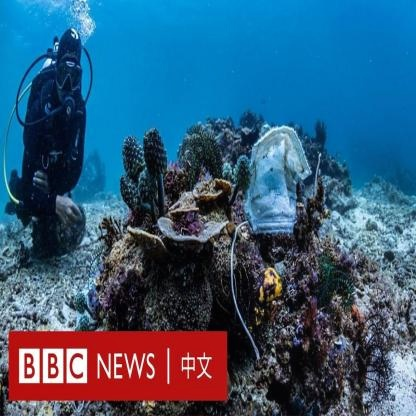Mask: (245, 121, 310, 244)
